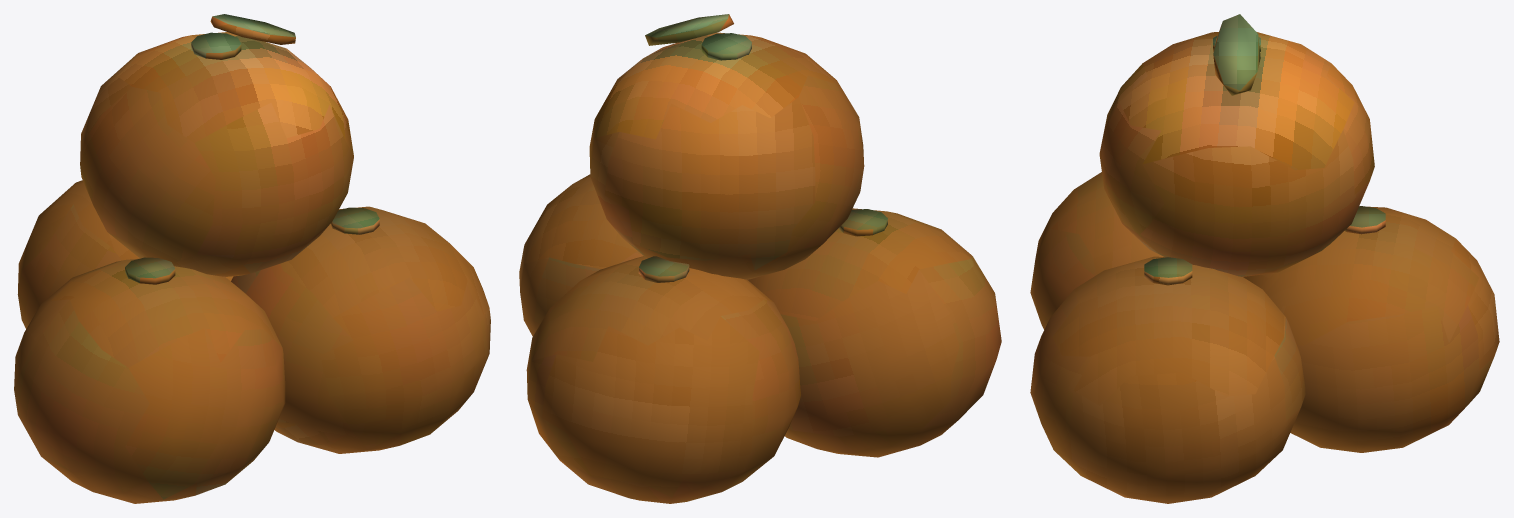
The model's file is mikan.glb.
3 renders of one model, left to right at view 1: azimuth 30°, elevation 25°; view 2: azimuth 150°, elevation 25°; view 3: azimuth 270°, elevation 25°, orthographic.
Parts seen in each view (by area): view 1: prop_mikan_felt; view 2: prop_mikan_felt; view 3: prop_mikan_felt.
Boxes of the visible parts, bbox=[...] form: prop_mikan_felt: bbox=[14, 14, 490, 503]; prop_mikan_felt: bbox=[519, 14, 1001, 503]; prop_mikan_felt: bbox=[1030, 14, 1499, 503].
Size of the model in its own units: 0.1786 by 0.163 by 0.1637.
1 material, 1 textured.
